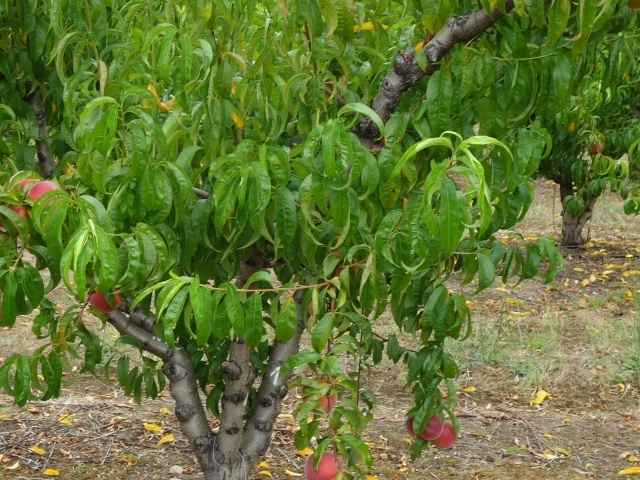peach: (298, 371, 341, 420), (3, 163, 45, 197), (300, 448, 345, 479), (88, 282, 127, 317), (23, 178, 65, 209), (429, 420, 460, 453), (417, 410, 446, 444), (1, 202, 27, 236), (402, 413, 423, 441)
